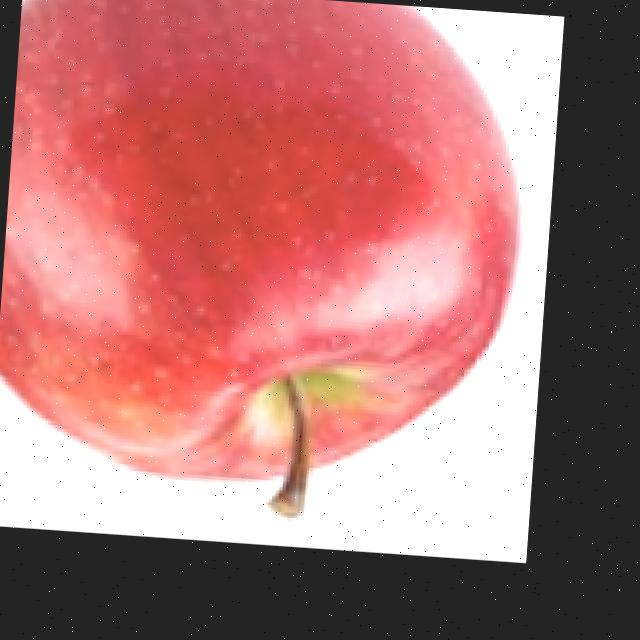Ripe: (0, 0, 540, 536)
